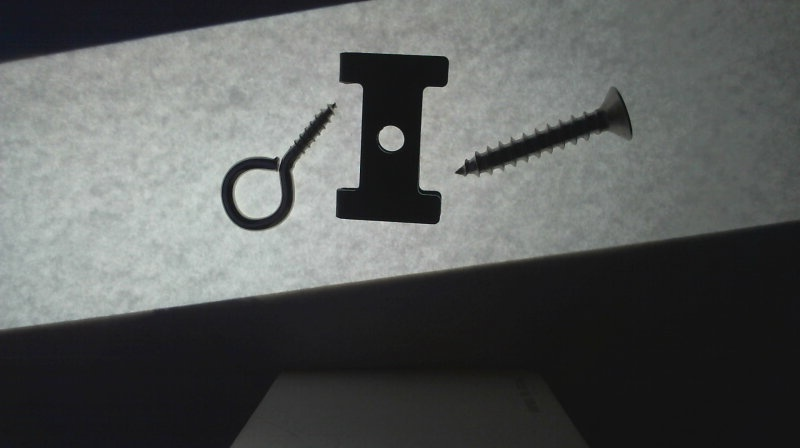O001: (218, 100, 336, 232)
O002: (330, 50, 452, 223)
S001: (451, 85, 635, 179)
